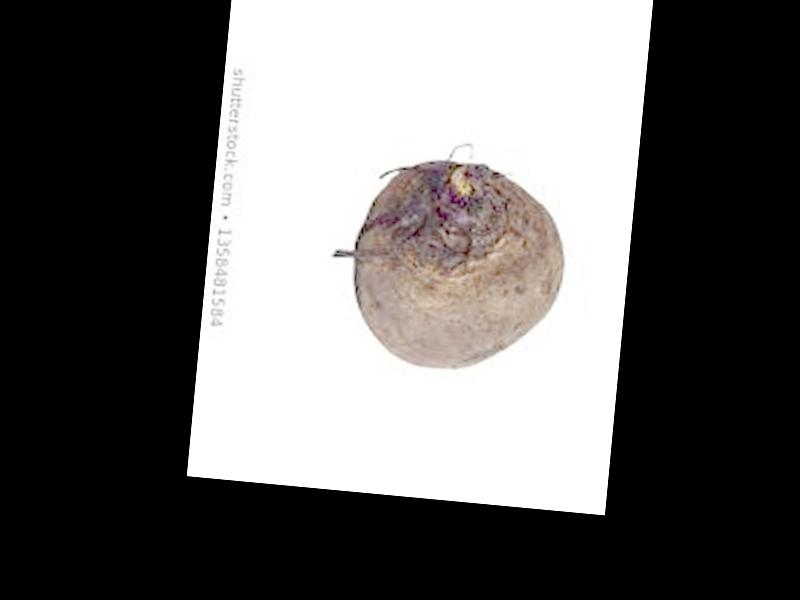Beet: (345, 155, 572, 381)
